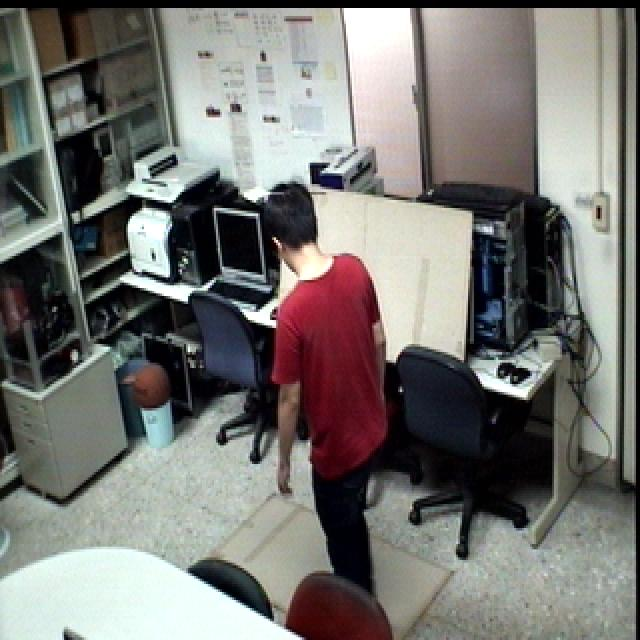stand: (258, 176, 396, 606)
